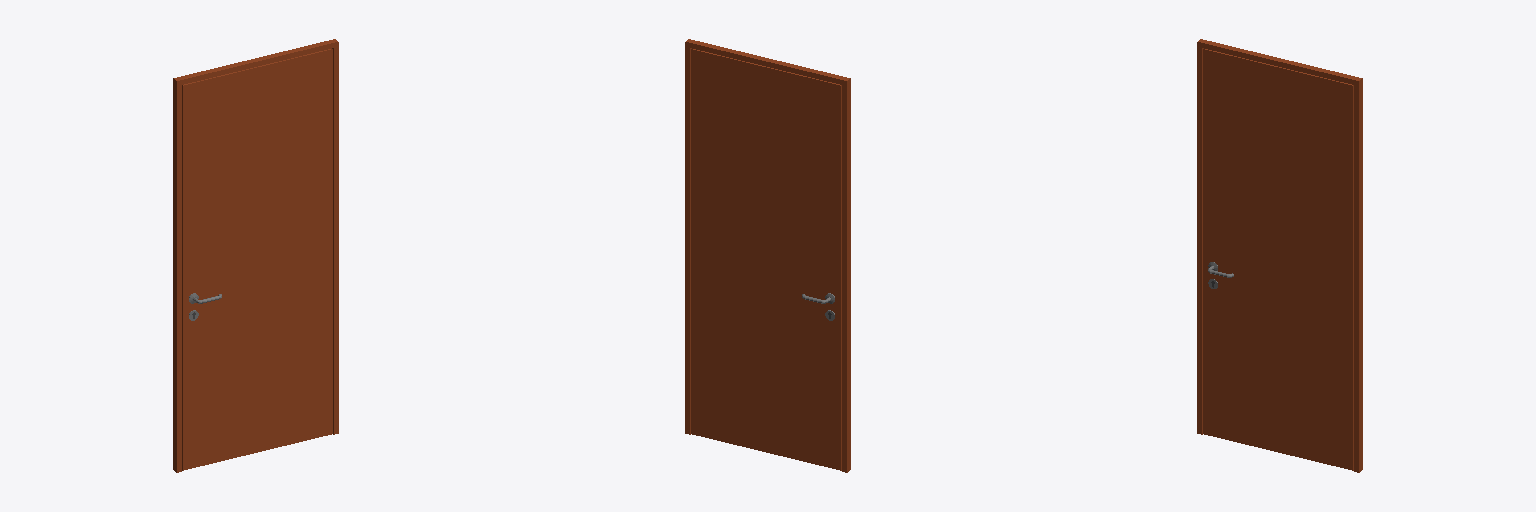
File: door.obj
3 views of the same model, side by side, from view 1: azimuth 30°, elevation 25°; view 2: azimuth 150°, elevation 25°; view 3: azimuth 330°, elevation 25° (orthographic).
Parts seen in each view (by area): view 1: Door, Frame; view 2: Door, Frame; view 3: Door, Frame.
Part boxes in pixels (bbox=[...]): Door: bbox=[182, 49, 332, 470]; Frame: bbox=[173, 39, 338, 472]; Door: bbox=[691, 49, 841, 470]; Frame: bbox=[685, 39, 850, 472]; Door: bbox=[1203, 49, 1353, 470]; Frame: bbox=[1197, 39, 1362, 472].
Bounding box in the file's own units: 3.01 × 6.98 × 0.5472.